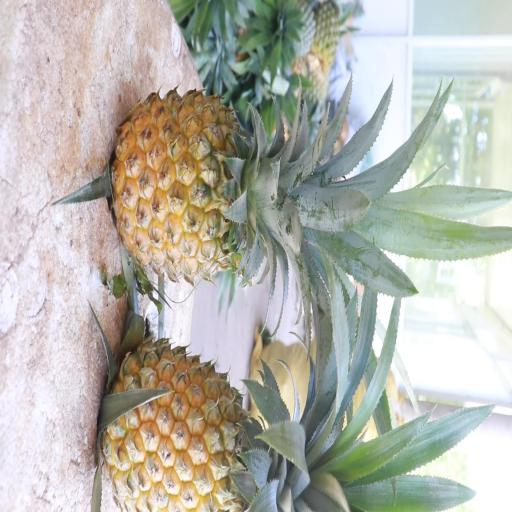Pineapple - v8 v1: (109, 80, 331, 288), (98, 333, 348, 512)
